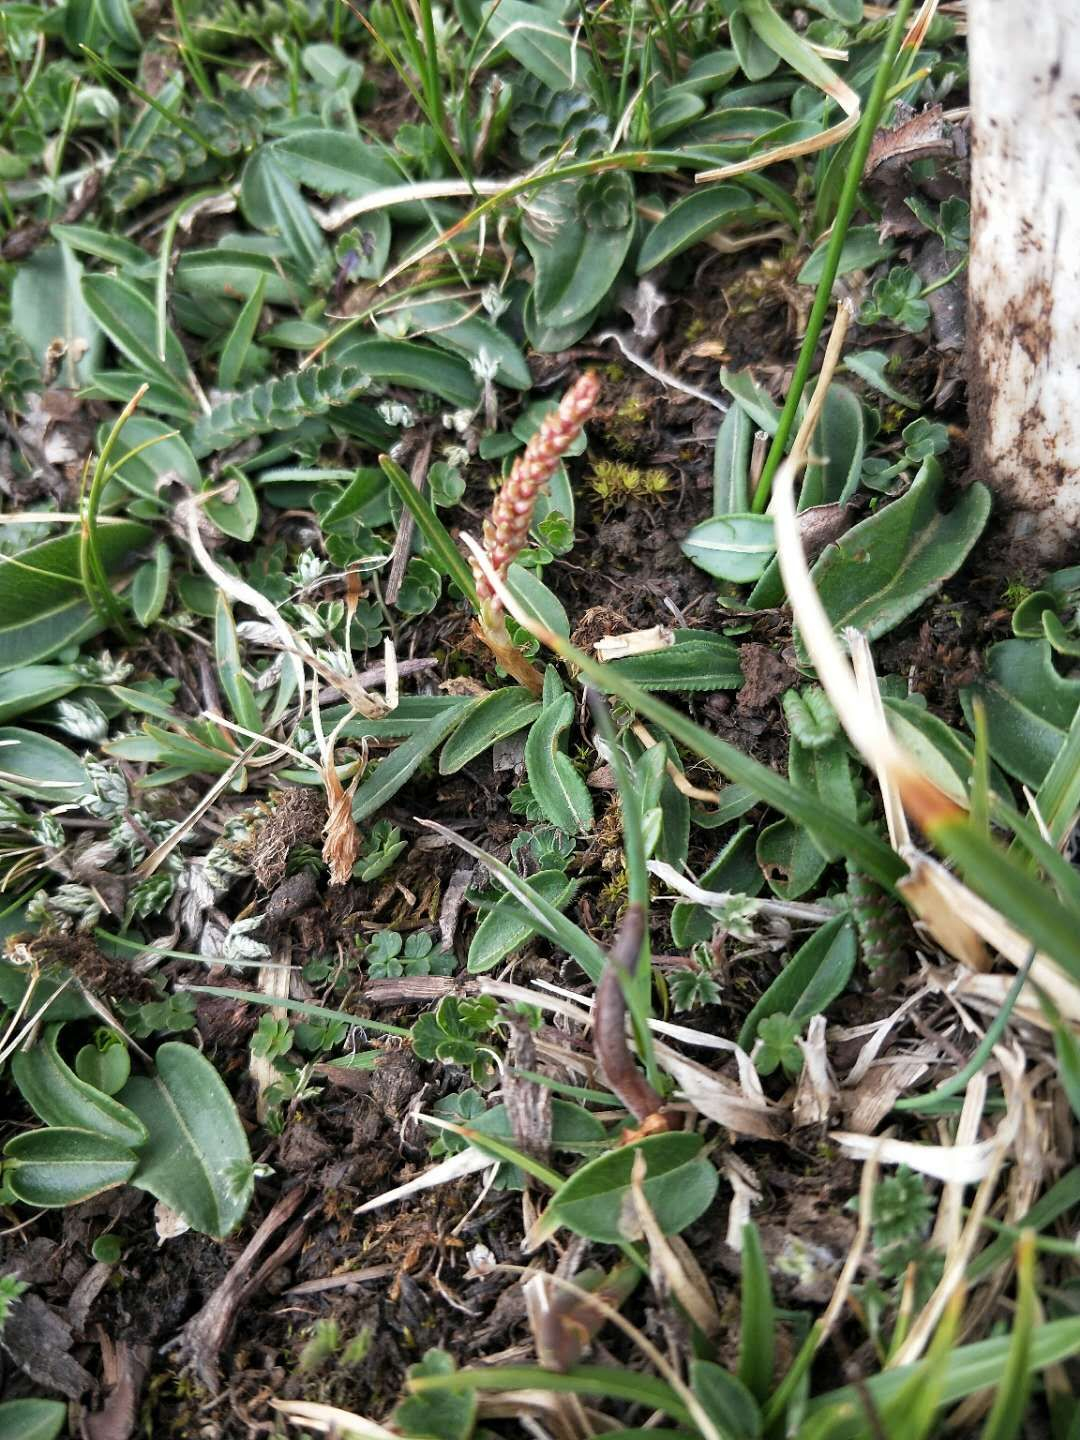cpf: (588, 900, 656, 1111)
